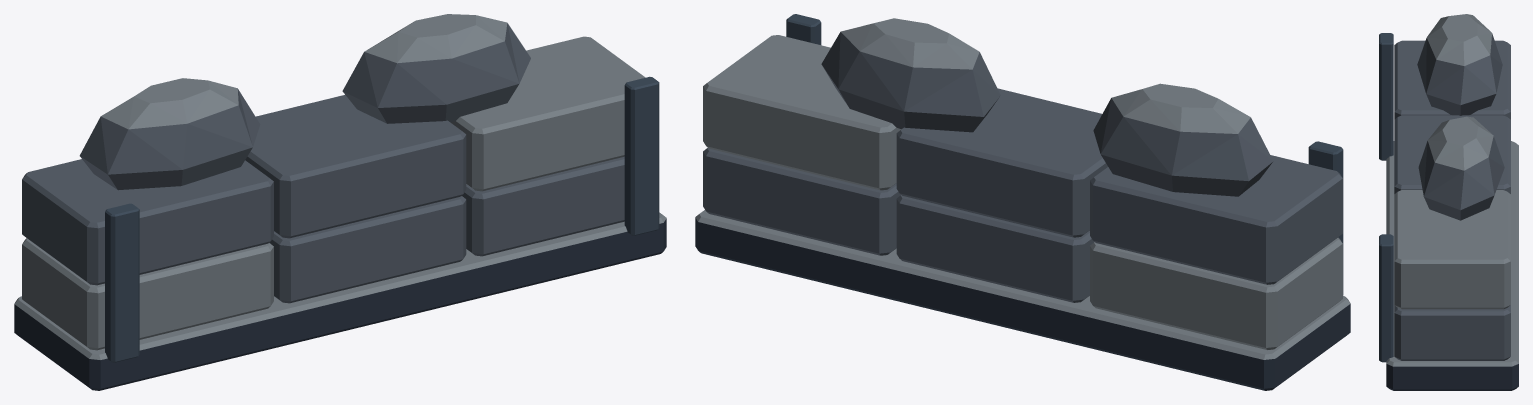
File: wall-broken.glb
3 renders of one model, left to right at view 1: azimuth 30°, elevation 25°; view 2: azimuth 150°, elevation 25°; view 3: azimuth 270°, elevation 25°, orthographic. The views are drawn at different scales.
Visible parts, largest first — view 1: wall-broken__body; view 2: wall-broken__body; view 3: wall-broken__body.
Part boxes in pixels (x1=…): wall-broken__body: x1=14, y1=14, x2=666, y2=390; wall-broken__body: x1=695, y1=14, x2=1350, y2=390; wall-broken__body: x1=1379, y1=14, x2=1518, y2=390.
Size of the model in its own units: 2 by 0.79 by 0.5275.
